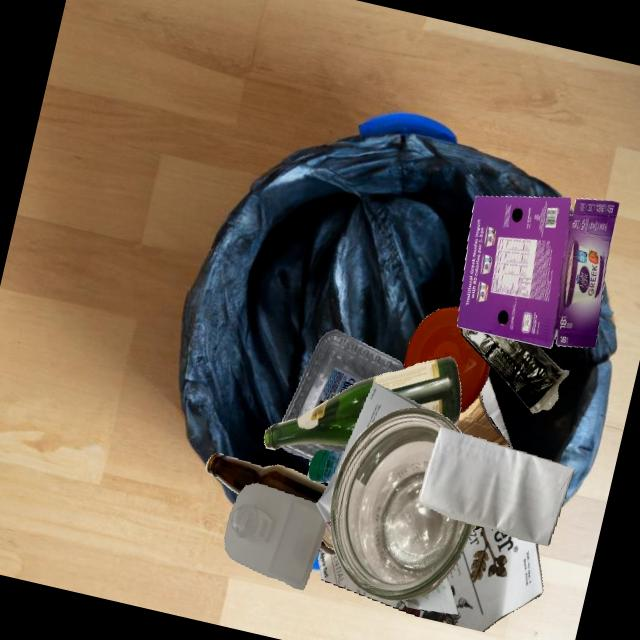cardboard: (456, 196, 619, 348), (454, 391, 509, 447)
glass: (330, 407, 473, 601), (263, 356, 460, 450), (205, 452, 327, 503), (321, 525, 334, 550)
paper: (318, 526, 542, 632), (417, 426, 574, 545), (314, 382, 426, 534), (400, 575, 458, 614), (470, 524, 476, 531)
plastic: (281, 329, 404, 422), (224, 482, 326, 590), (404, 306, 490, 413), (461, 328, 569, 413), (307, 450, 344, 482)
